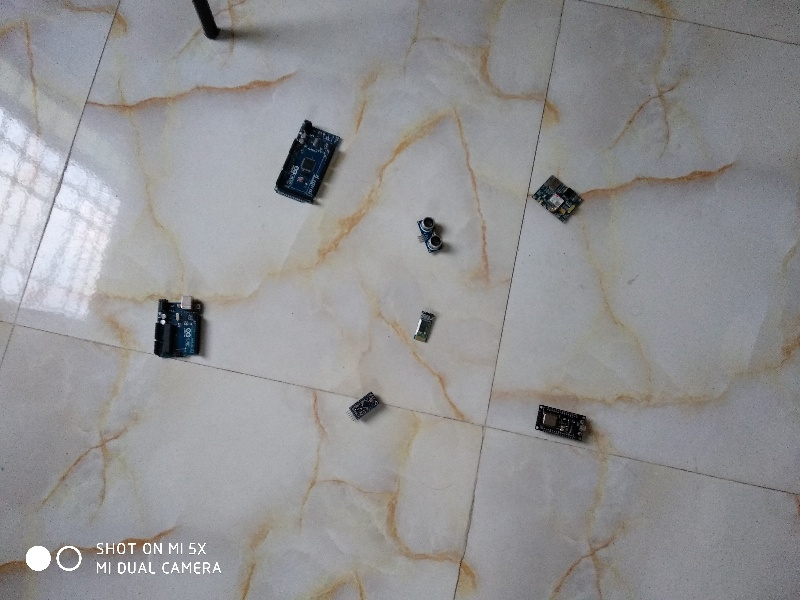Arduino Mega 2560: (270, 115, 345, 209)
Arduino Pro Mini: (347, 391, 386, 421)
Arduino UNO: (147, 295, 206, 361)
HC-05: (413, 307, 436, 345)
NodeMCU: (533, 403, 596, 444)
SIM800: (528, 171, 585, 224)
Sonar Sensor: (413, 213, 451, 256)
